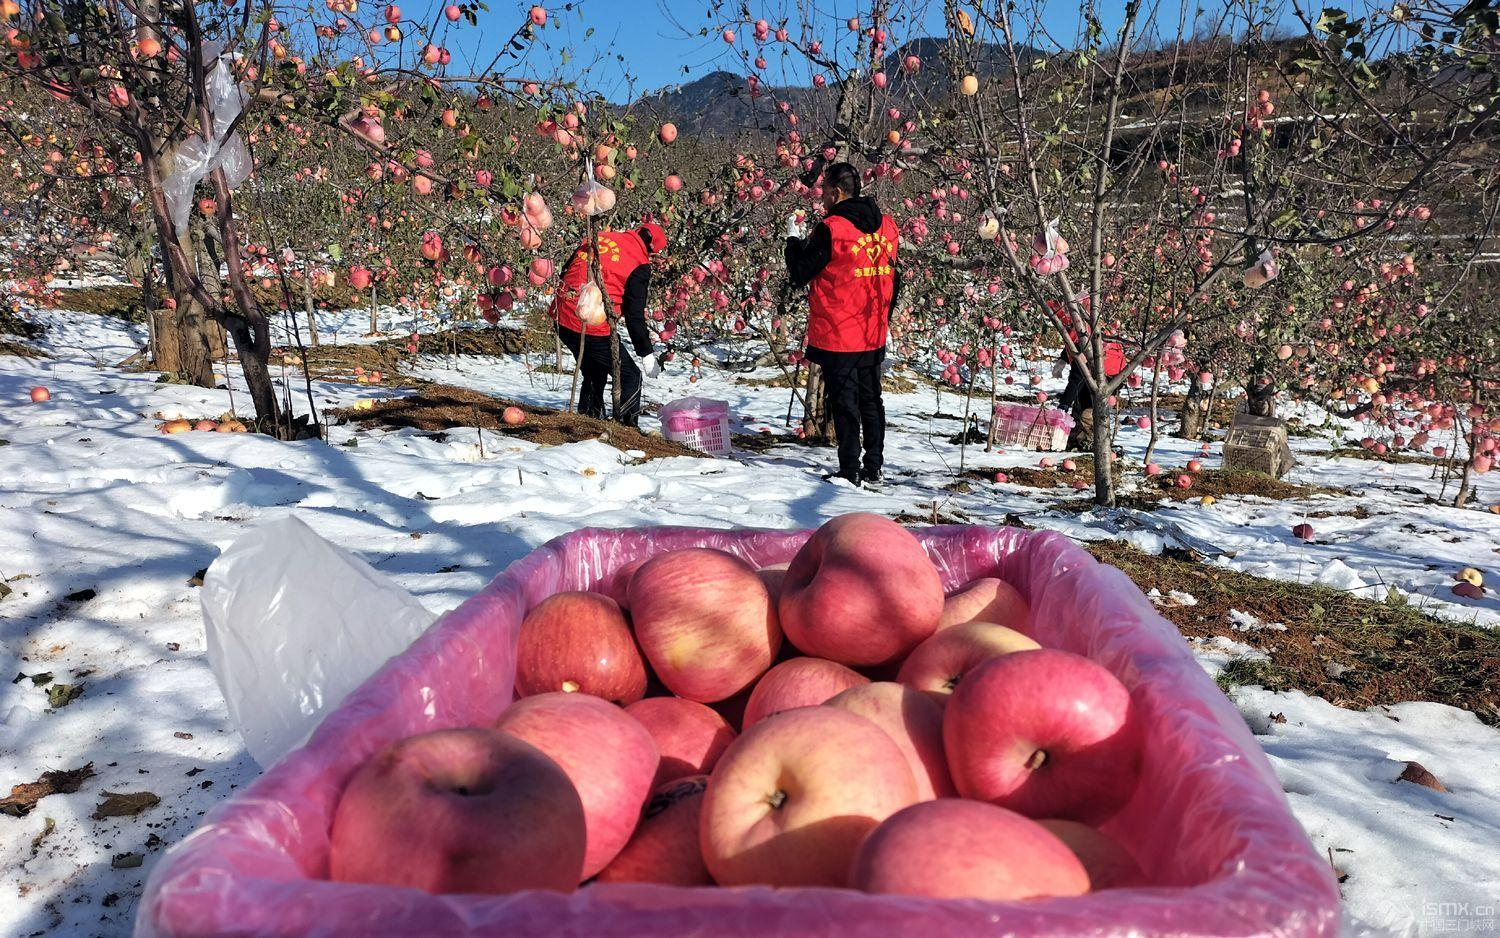apple: (333, 719, 579, 896), (699, 705, 916, 886), (938, 641, 1131, 814), (491, 691, 656, 883), (851, 795, 1098, 901), (776, 515, 935, 672), (626, 550, 778, 698), (513, 588, 647, 705), (895, 619, 1040, 694)
